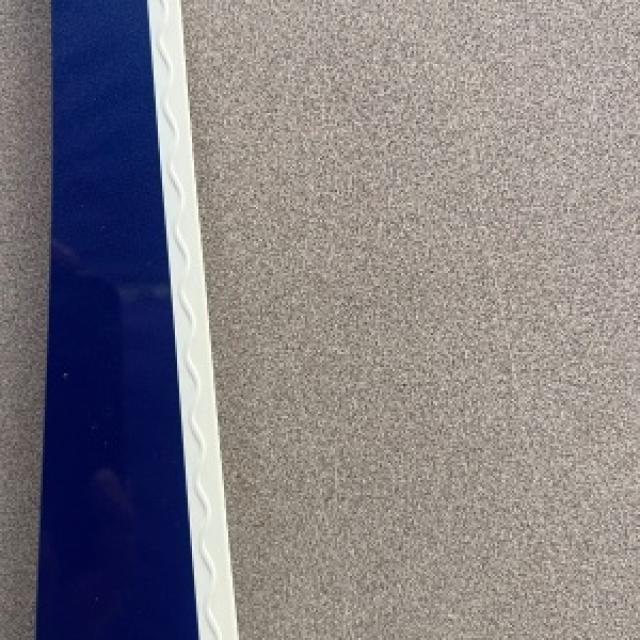healthy: (36, 0, 237, 638)
